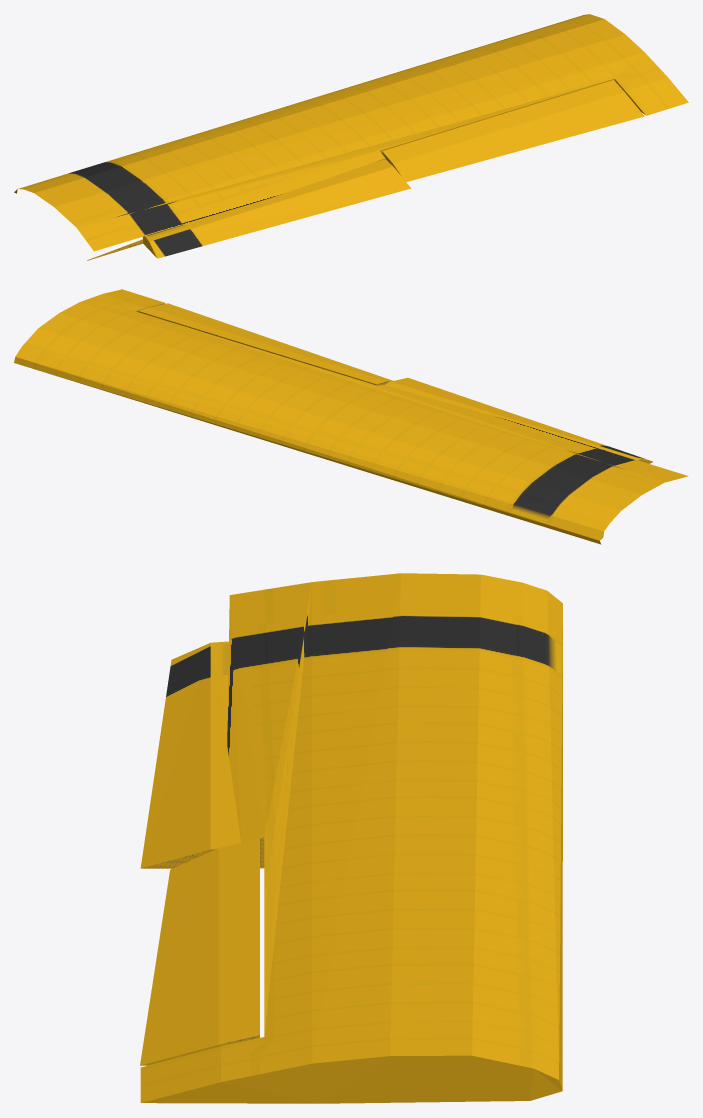
Rendered from ThrushWing_LOD2.gltf.
3 renders of one model, top to bottom at view 1: azimuth 30°, elevation 25°; view 2: azimuth 150°, elevation 25°; view 3: azimuth 270°, elevation 25°, orthographic. The views are drawn at different scales.
Parts seen in each view (by area): view 1: node3; view 2: node3; view 3: node3.
Part boxes in pixels (x1,y1,x2,y2): node3: (14,14,688,260); node3: (14,289,688,544); node3: (140,573,562,1103).
Bounding box in the file's own units: 7.31 × 0.732 × 2.33.
